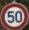Speed Limit -50-: (0, 0, 28, 29)
